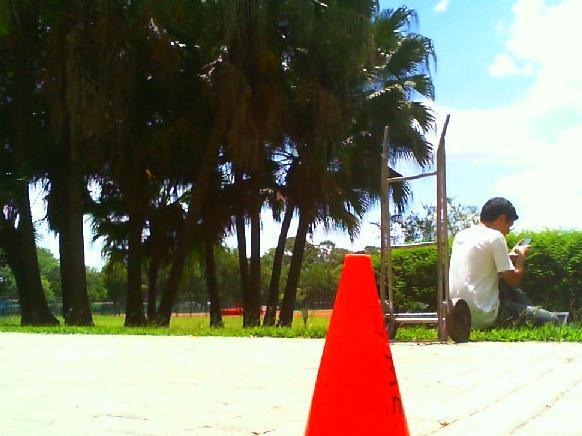0 cone: (292, 253, 418, 436)
